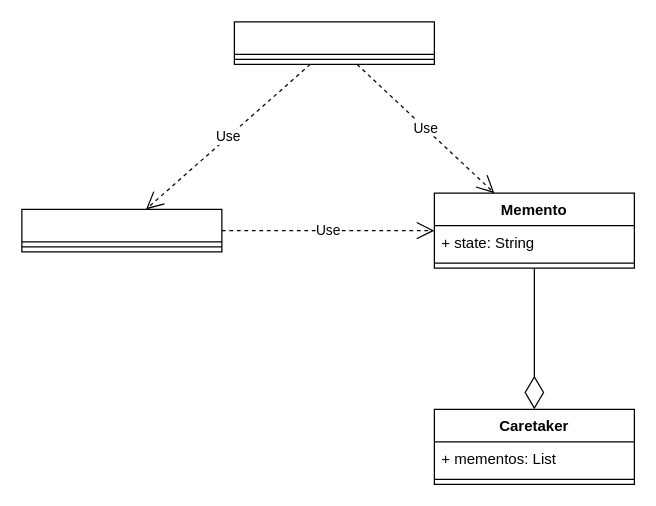
Some shapes in this 656 by 506 pixel diagram are drawn without their labels. Here are the shapes that lost their labels. From the top down, the centre of each, then its label:
(x=333, y=42): Client
(x=121, y=230): Originator
